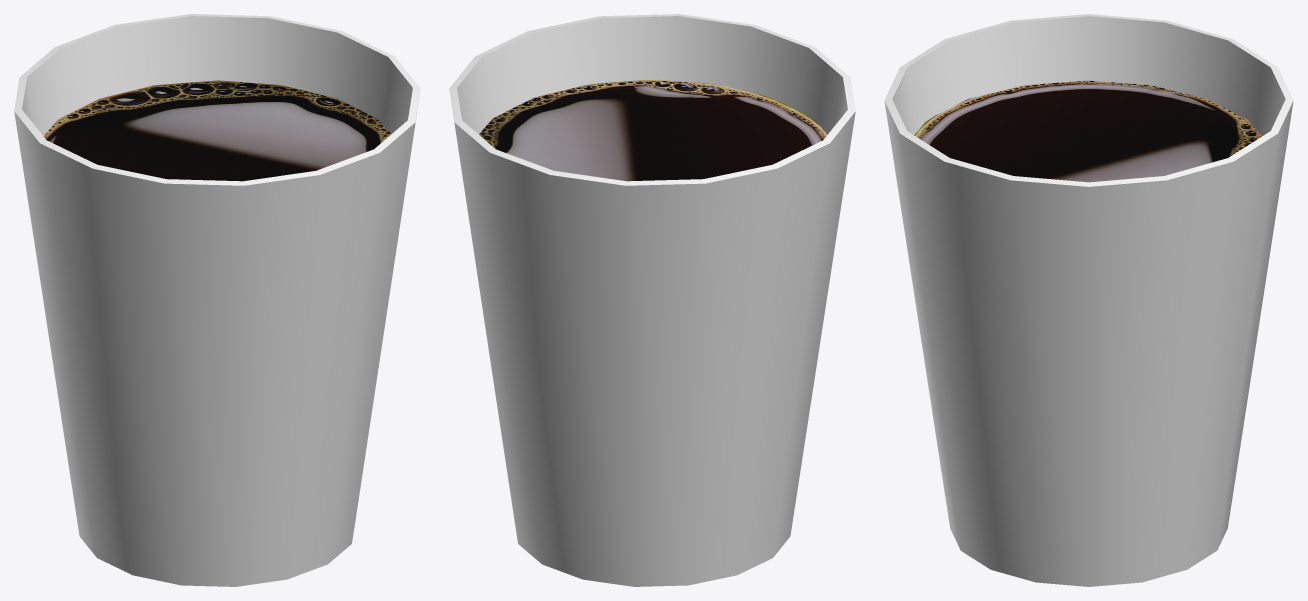
File: Coffee.FBX
The picture shows the model from 3 angles, left to right: view 1: azimuth 30°, elevation 25°; view 2: azimuth 150°, elevation 25°; view 3: azimuth 270°, elevation 25°; orthographic projection.
Parts seen in each view (by area): view 1: coffee; view 2: coffee; view 3: coffee.
Boxes of the visible parts, left/top/right/bottom form: coffee: left=14, top=14, right=420, bottom=586; coffee: left=449, top=14, right=855, bottom=586; coffee: left=884, top=14, right=1293, bottom=586.
Size of the model in its own units: 9.12 by 10.61 by 9.12.
1 material, 1 textured.
